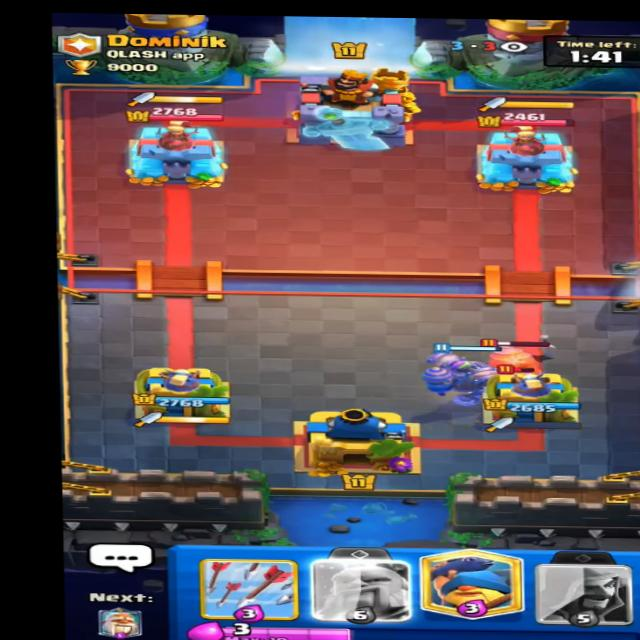Goblindrill: (479, 333, 563, 383)
